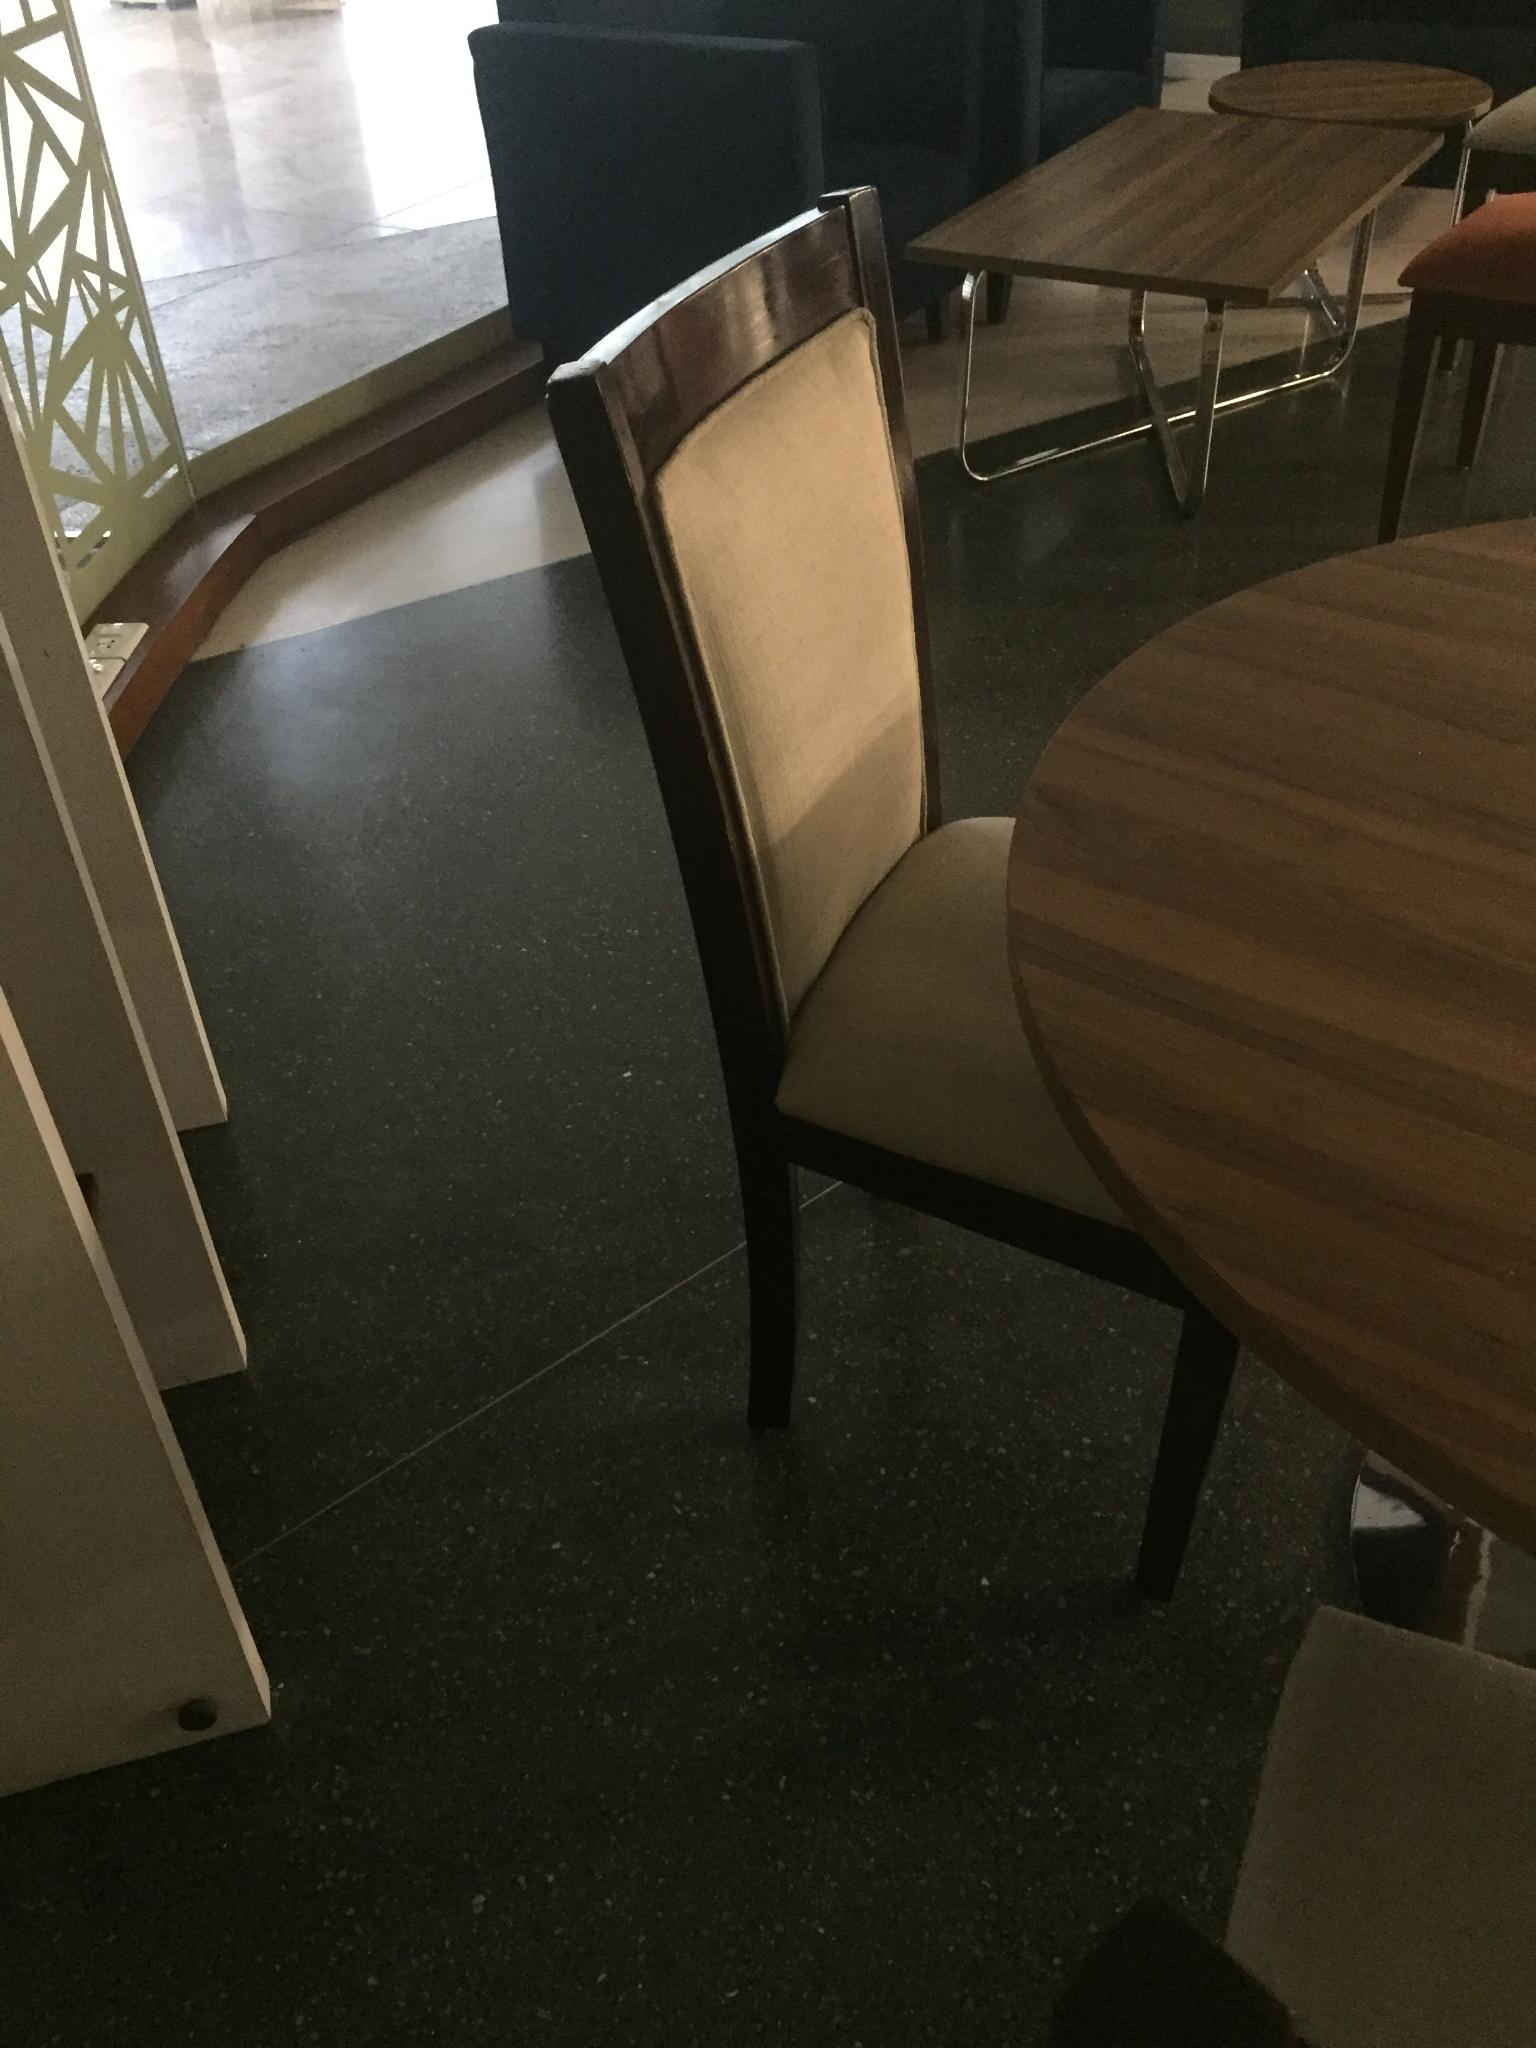chair: (545, 182, 1242, 1598), (1355, 174, 1536, 497), (1447, 65, 1536, 181)
